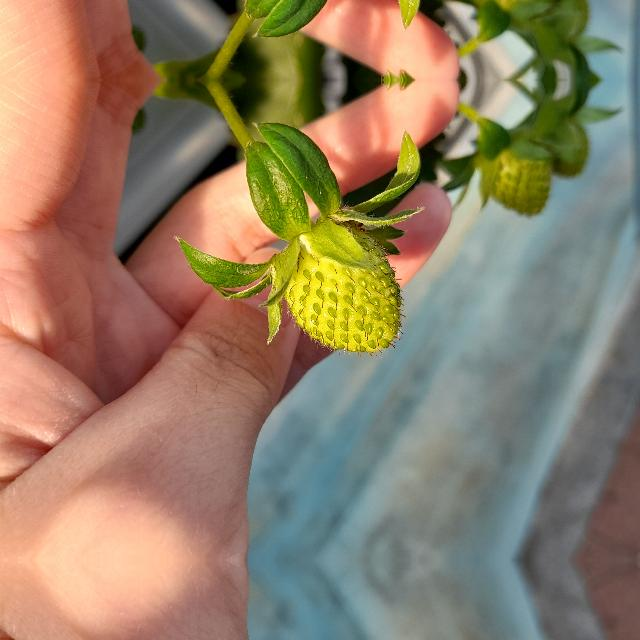Health_25: (282, 222, 406, 358)
